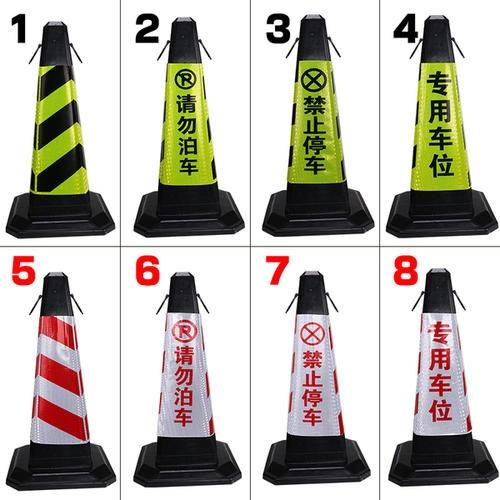cone_barrel: (138, 23, 238, 237), (9, 31, 111, 237), (267, 23, 365, 234), (11, 279, 111, 484), (391, 28, 490, 234), (138, 277, 236, 485), (267, 279, 366, 482), (393, 277, 490, 483)
